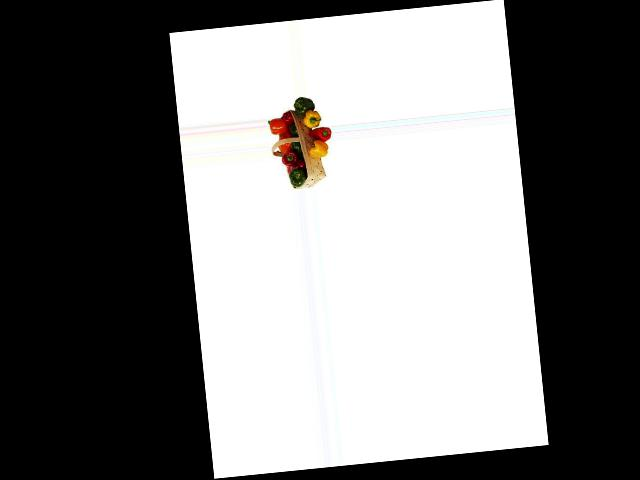bell_pepper: (288, 165, 306, 187)
